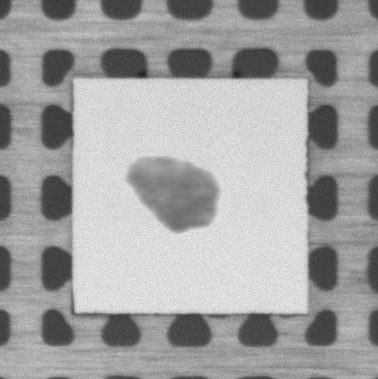DIE_INK: (114, 147, 231, 242)
